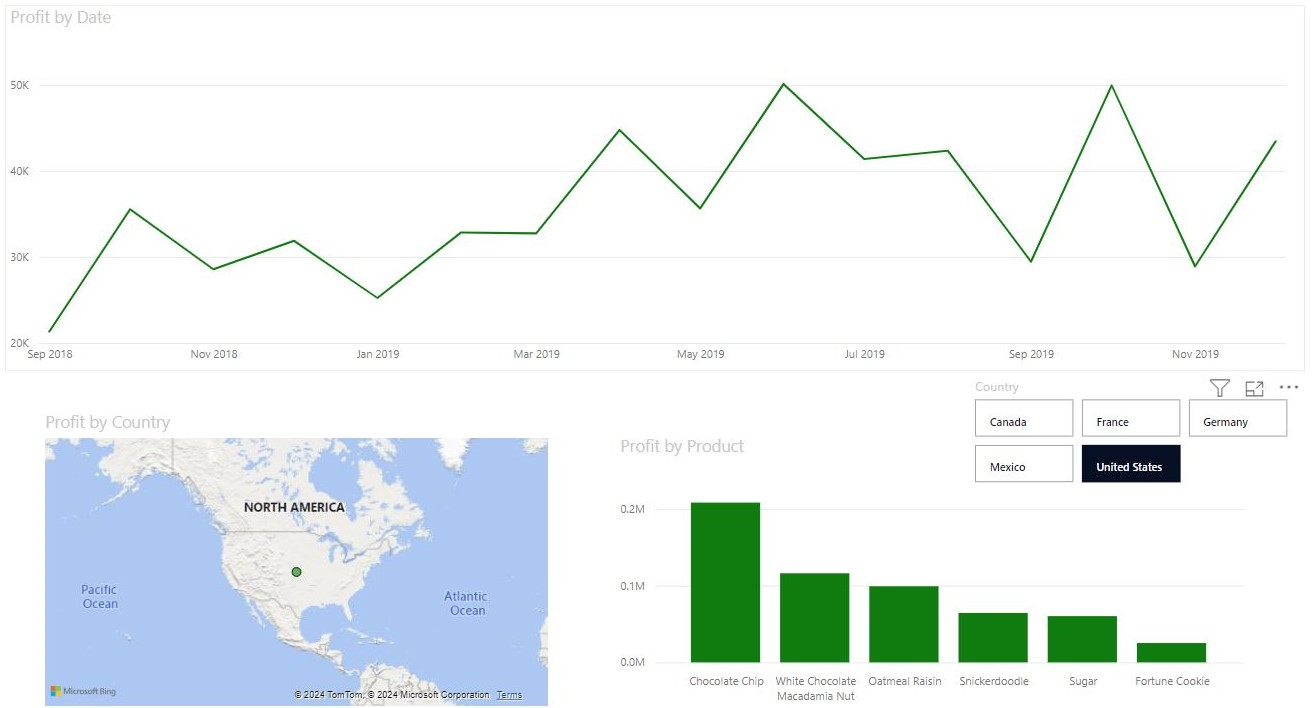

The dashboard page shown, as its layout file describes it:
{"tool":"powerbi","page":{"name":"Page 1","canvas":[1280,720],"ordinal":0},"visuals":[{"type":"lineChart","title":"Profit by Date","fields":{"Y":["Sum(Cookie Sales.Profit)"],"Category":["Cookie Sales.Date"]},"box":[9.6,15.1,1254.2,354],"z":0},{"type":"map","title":"Profit by Country","fields":{"Category":["Cookie Sales.Country"],"Size":["Sum(Cookie Sales.Profit)"]},"box":[43.9,406.2,495.4,290.9],"z":1000},{"type":"clusteredColumnChart","title":"Profit by Product","fields":{"Category":["Cookie Sales.Product"],"Y":["Sum(Cookie Sales.Profit)"]},"box":[598.3,429.5,612,267.6],"z":2000},{"type":"advancedSlicerVisual","fields":{"Values":["Cookie Sales.Country"]},"box":[940.7,375.1,312.4,107.3],"z":3000}]}

Visuals, with their boxes on the page's 1280x720 design canvas (x1, y1, x2, y2). These are canvas units, not pixel positions in the 1315x708 screenshot, which may show the page scaled, cropped or inside an application window:
"Profit by Date" lineChart: <box>10,15,1264,369</box>
"Profit by Country" map: <box>44,406,539,697</box>
"Profit by Product" clusteredColumnChart: <box>598,430,1210,697</box>
advancedSlicerVisual - Cookie Sales.Country: <box>941,375,1253,482</box>
